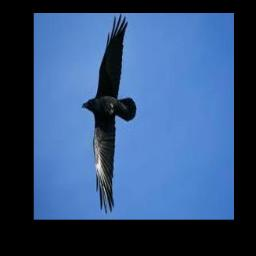Crow: (81, 13, 137, 212)
